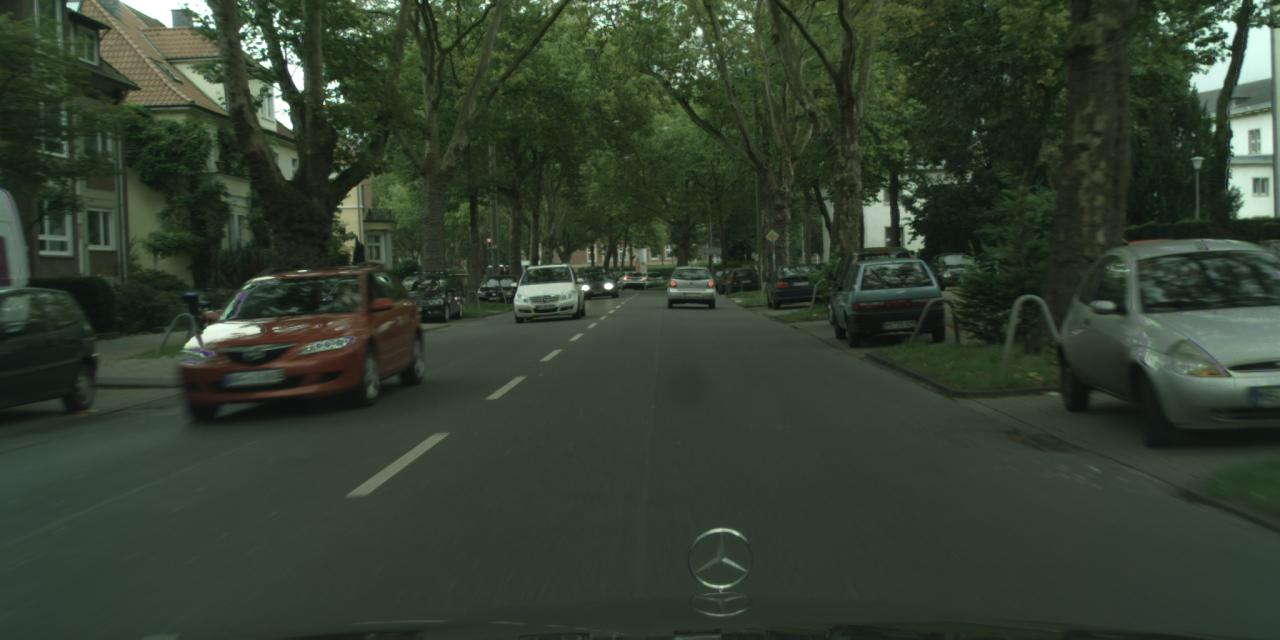ped: (500, 264, 510, 289)
